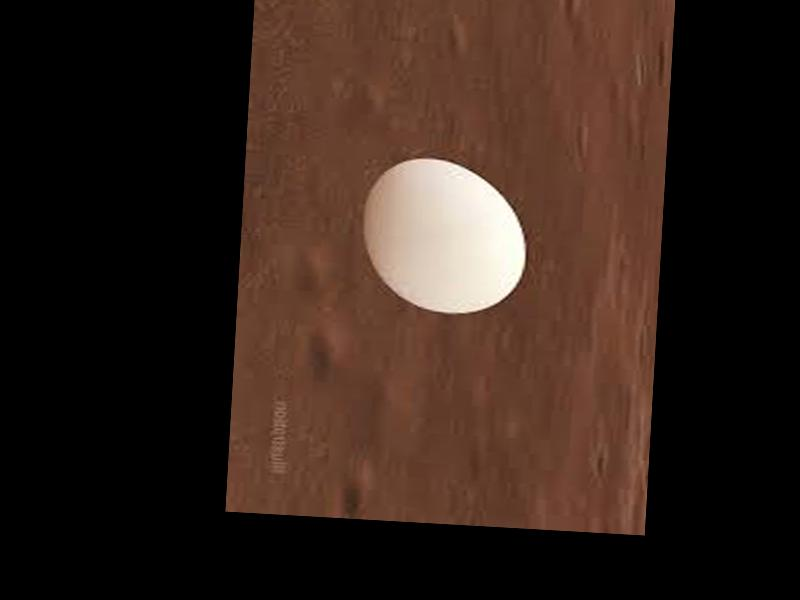Eggs: (359, 153, 530, 318)
